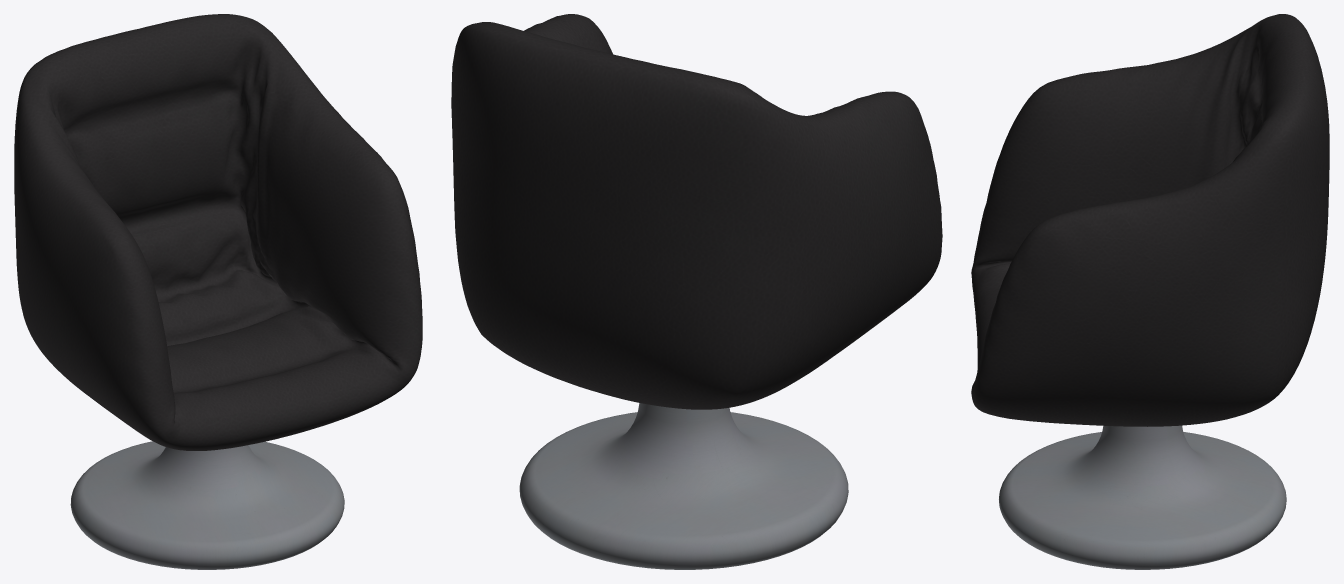
File: black_leather_chair.glb
The picture shows the model from 3 angles, left to right: view 1: azimuth 30°, elevation 25°; view 2: azimuth 150°, elevation 25°; view 3: azimuth 270°, elevation 25°; orthographic projection. The views are drawn at different scales.
Parts seen in each view (by area): view 1: Chair_0, Base_2; view 2: Chair_0, Base_2; view 3: Chair_0, Base_2.
Boxes of the visible parts, x1,y1,x2,y2 form: Chair_0: (14, 14, 422, 450); Base_2: (70, 441, 344, 569); Chair_0: (451, 14, 942, 409); Base_2: (519, 403, 848, 569); Chair_0: (971, 14, 1329, 426); Base_2: (999, 425, 1286, 569).
Size of the model in its own units: 2.58 by 3.24 by 2.33.
Materials: 2 (2 with a texture image).
